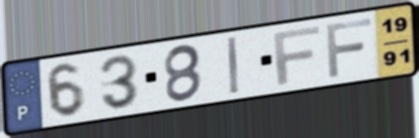3: (98, 52, 140, 112)
6: (45, 61, 88, 119)
8: (162, 42, 204, 104)
F: (271, 24, 323, 87), (324, 16, 375, 80)
I: (225, 34, 241, 96)
